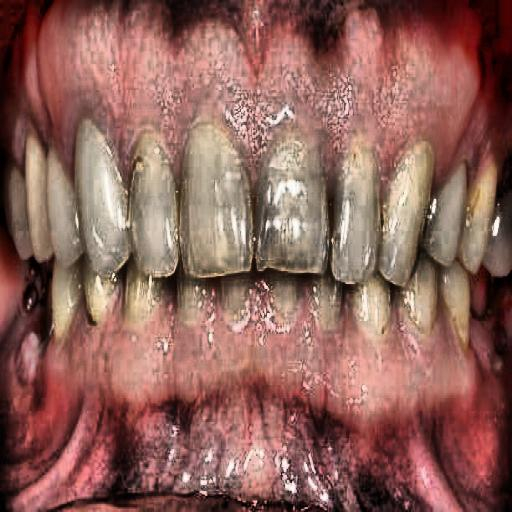Gingivitis: (17, 0, 510, 156), (50, 299, 492, 450)
